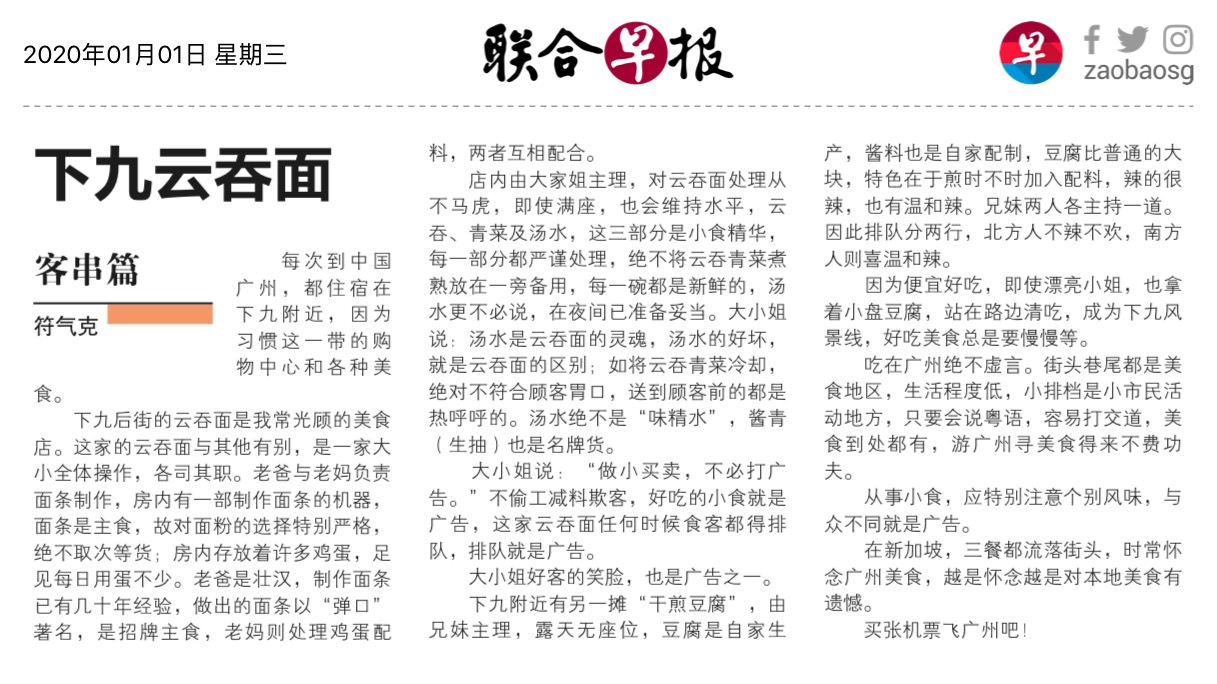heading: (29, 138, 337, 209)
